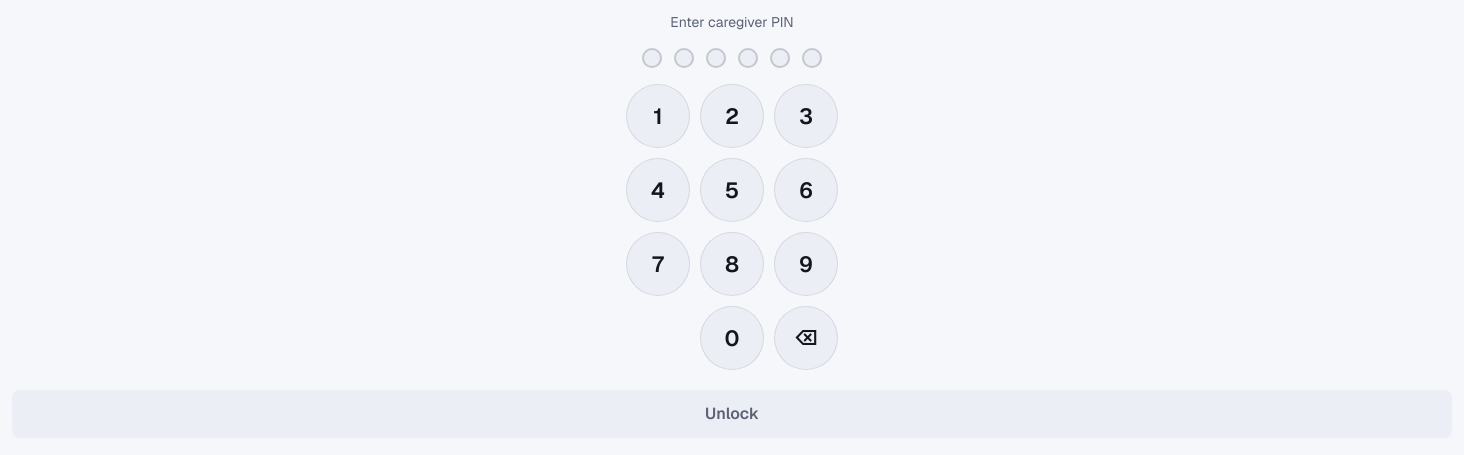
Test: PinPad — verify mode › Unlock button enabled after 4 digits
Click the button "1": (658,116) [626,84,690,148]
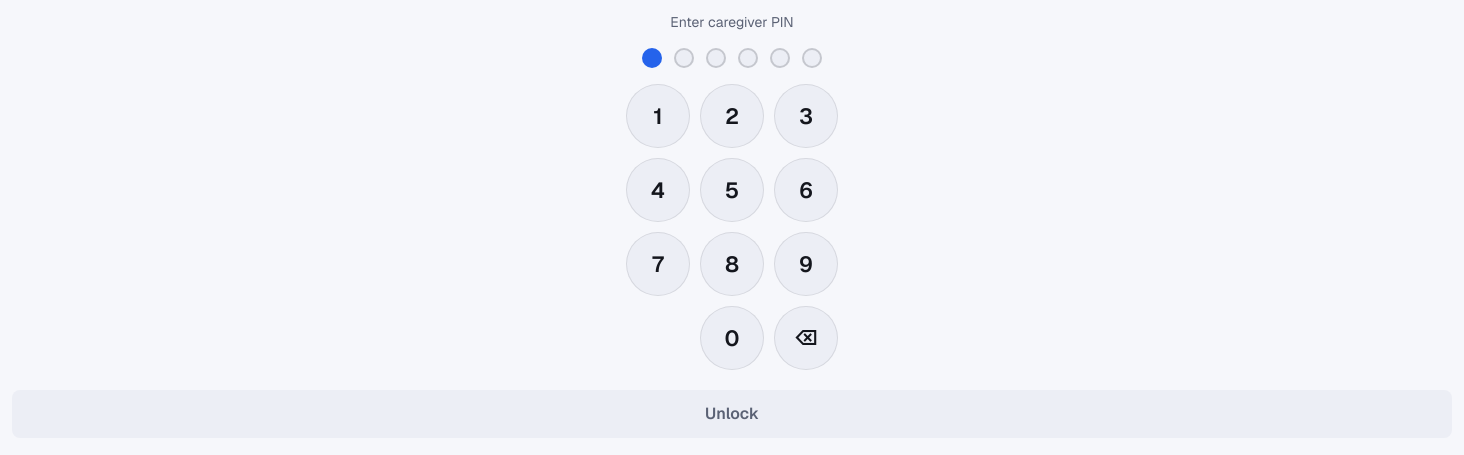
Click the button "2": (732,116) [700,84,764,148]
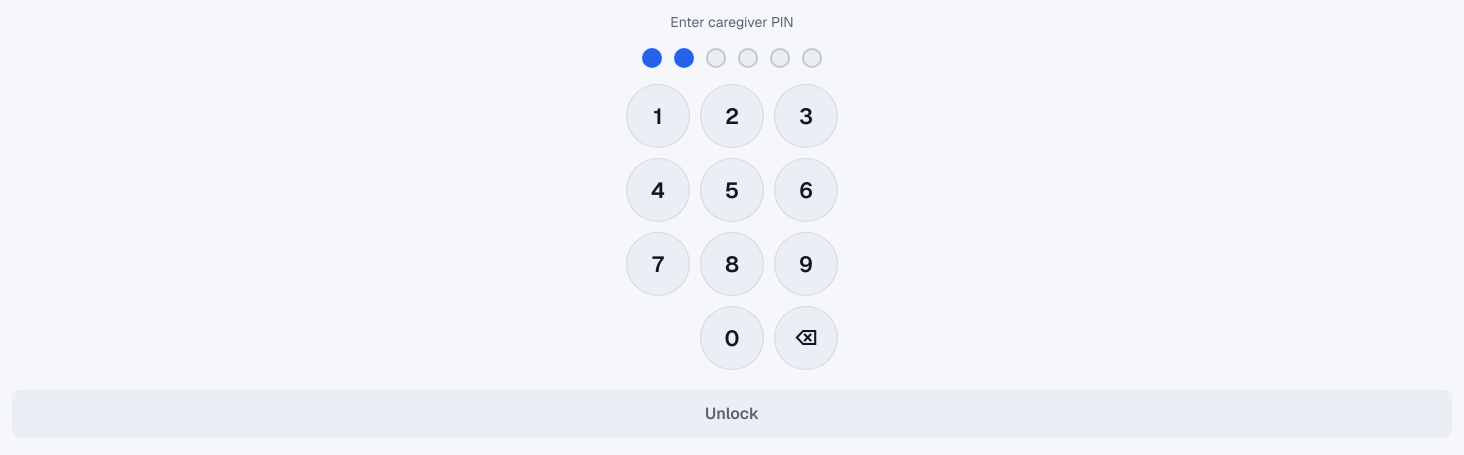
Click the button "3": (806,116) [774,84,838,148]
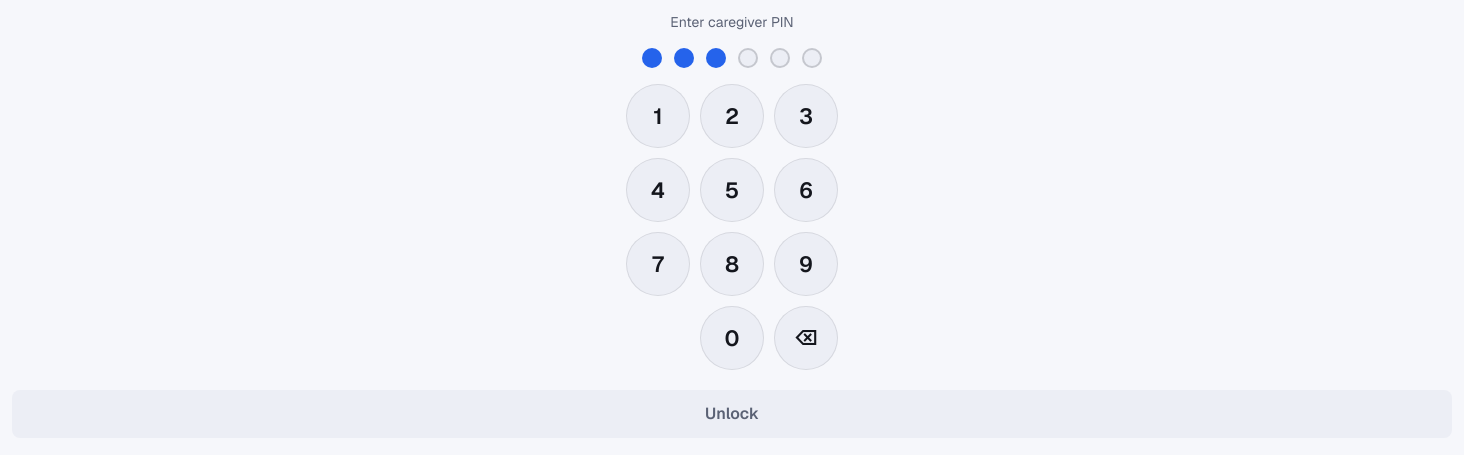
Click the button "4": (658,190) [626,158,690,222]
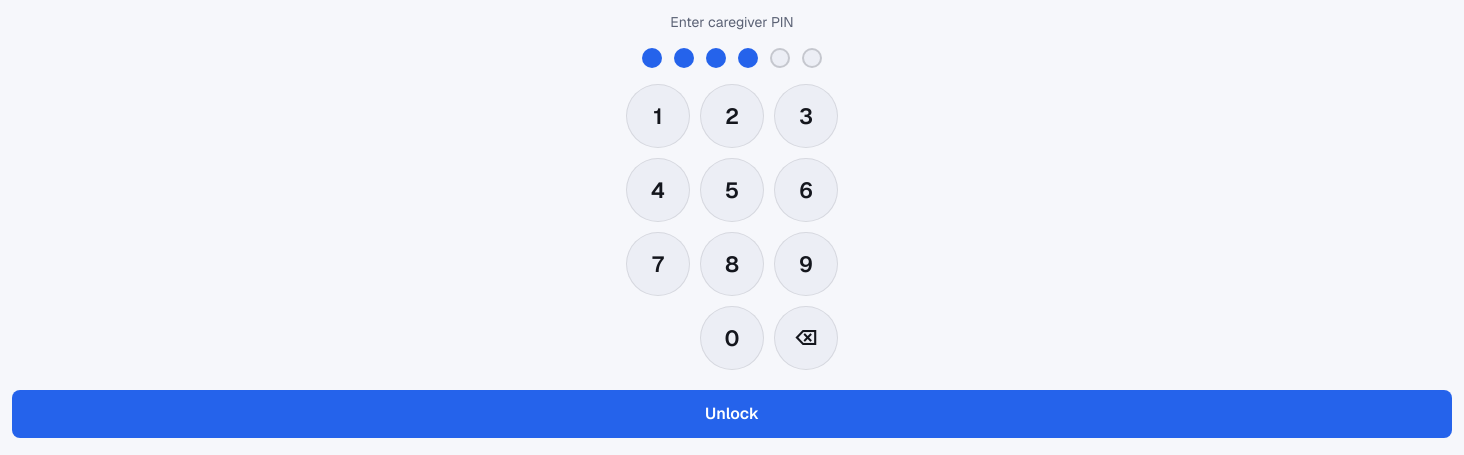
Expected: the button "Unlock" is enabled, [12,390,1452,438]
